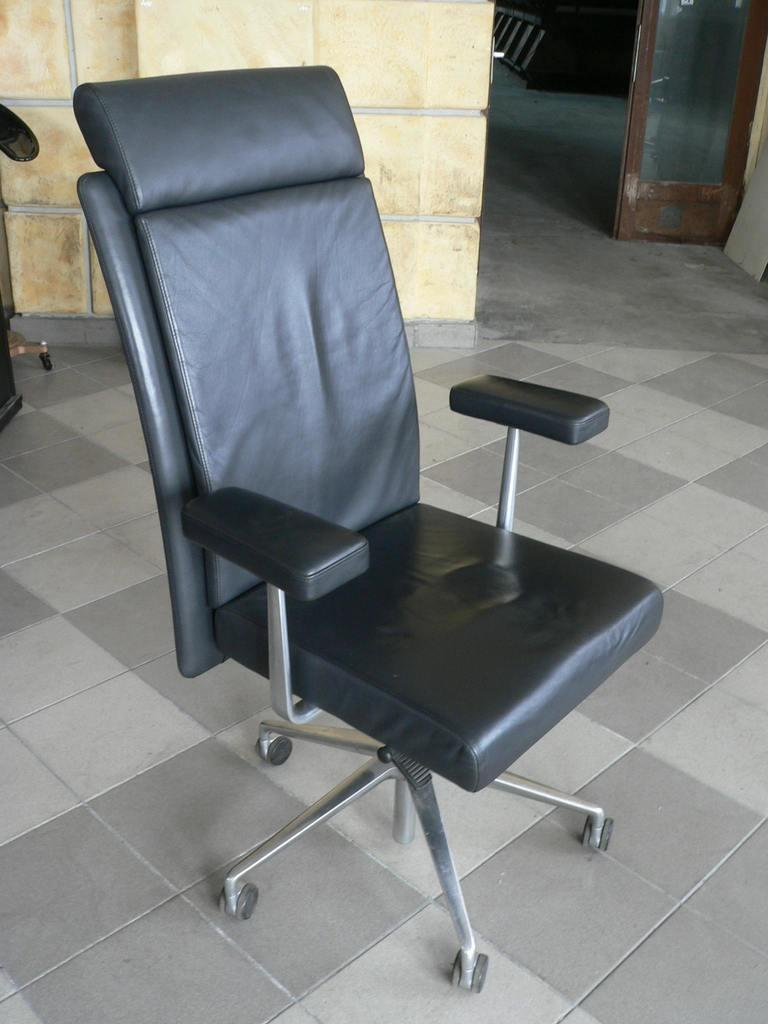Chair: (79, 77, 669, 993)
